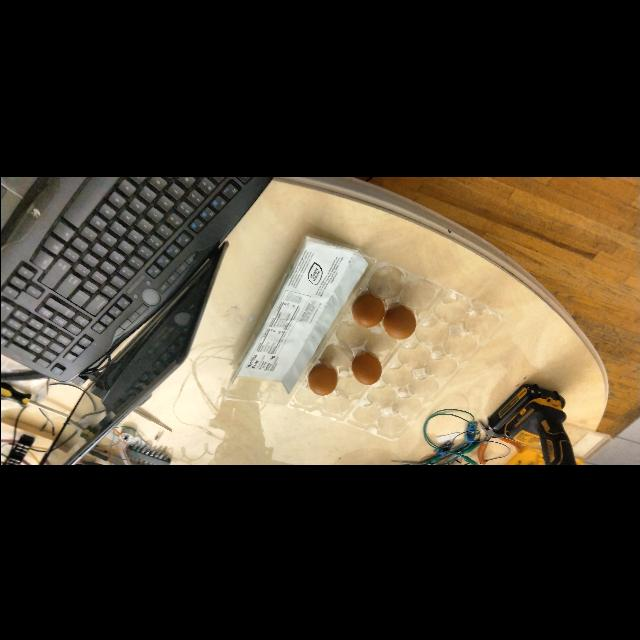Egg: (304, 356, 340, 400), (379, 302, 418, 341), (348, 345, 384, 387), (348, 285, 384, 327)
